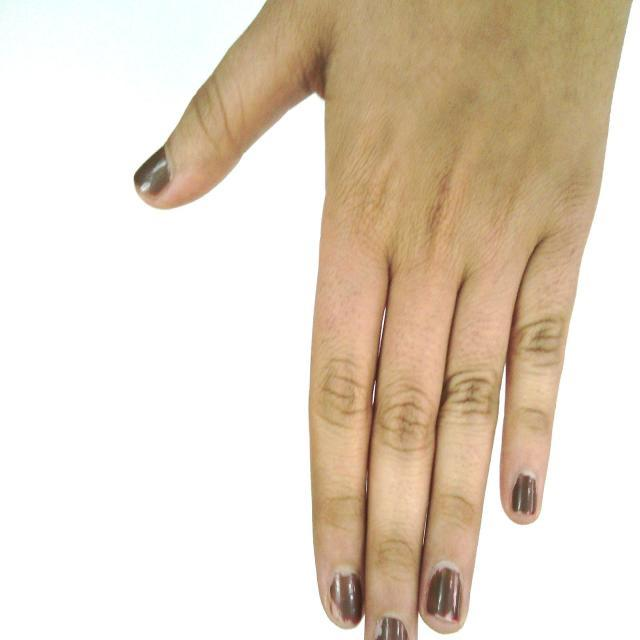Fingernail: (426, 562, 464, 623), (330, 568, 363, 627), (133, 147, 171, 197), (510, 470, 537, 514), (375, 615, 408, 639)
